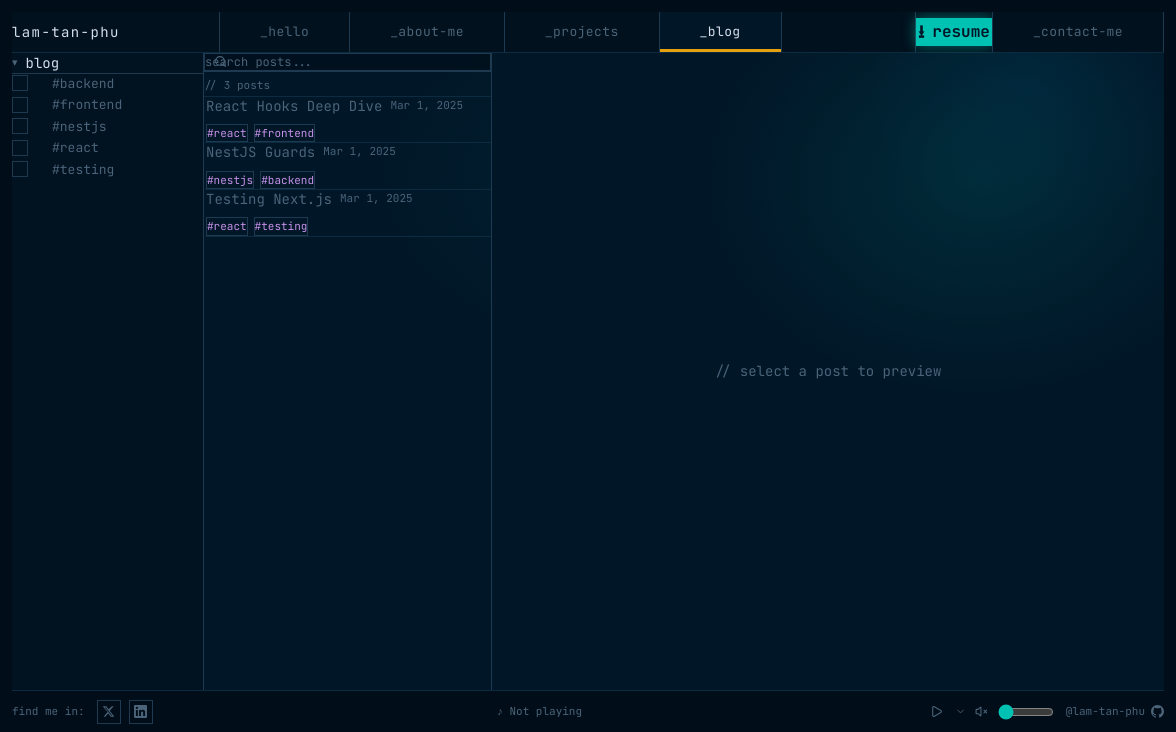
Scenario: BlogPage — tag filtering › narrows the list to posts with the selected tag
What coordinates should you click on to do the following:
click the checkbox labelled "#backend"
I would click on:
 (63, 83)
Its box is [12,74,114,92].
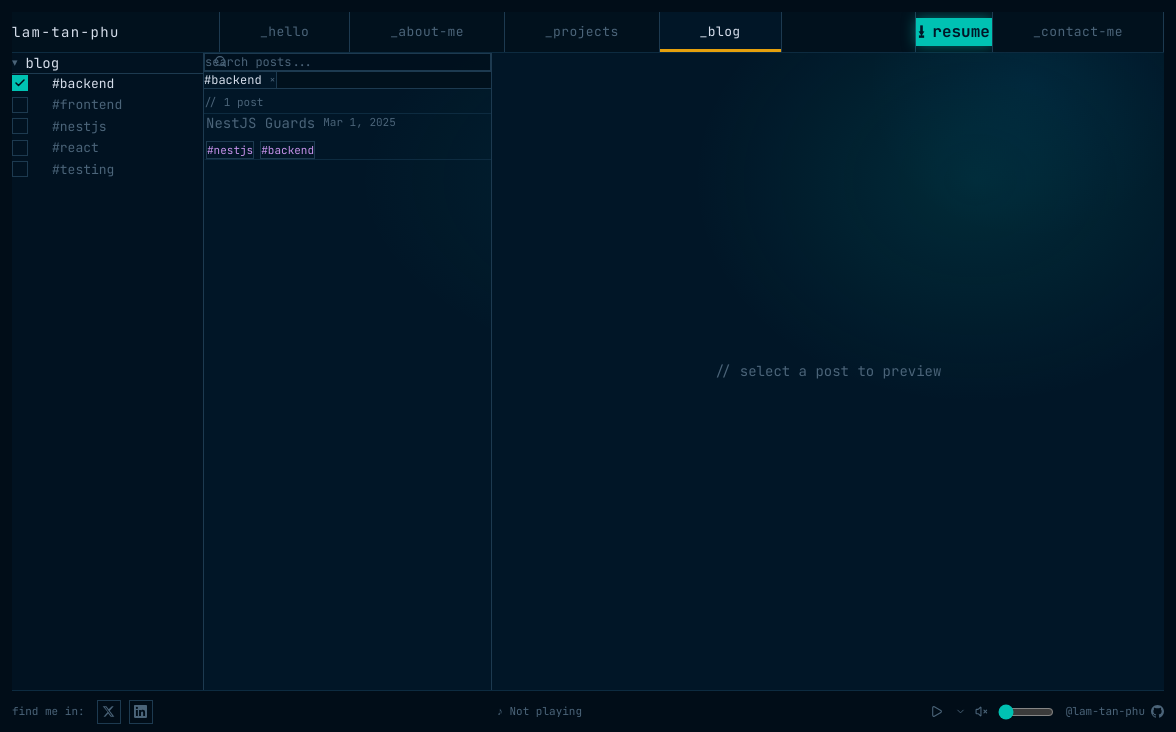
Expected: the button "NestJS Guards Mar 1, 2025 #nestjs #backend" is shown, [204,114,491,160]
Result: the button "React Hooks Deep Dive" is gone
Result: the text "// 1 post" is shown at [204,94,263,108]
